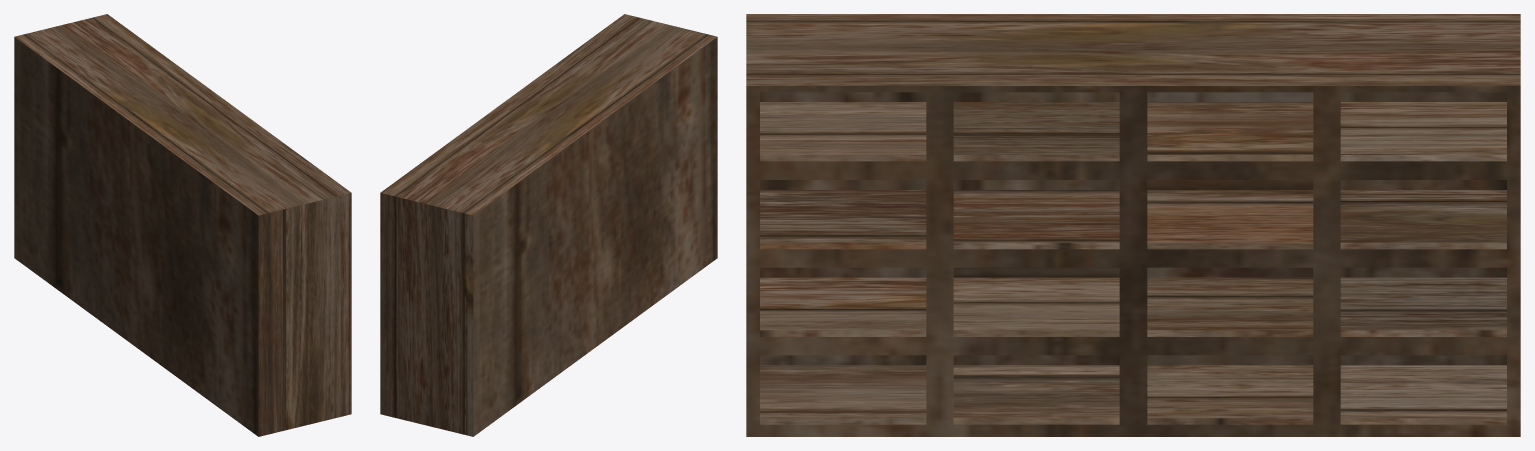
Rendered from shelf.fbx.
The picture shows the model from 3 angles, left to right: view 1: azimuth 30°, elevation 25°; view 2: azimuth 150°, elevation 25°; view 3: azimuth 270°, elevation 25°; orthographic projection. The views are drawn at different scales.
Parts seen in each view (by area): view 1: Cube.005; view 2: Cube.005; view 3: Cube.005.
Boxes of the visible parts, <box> form: Cube.005: <box>14,14,351,436</box>; Cube.005: <box>380,14,717,436</box>; Cube.005: <box>746,14,1520,436</box>.
Bounding box in the file's own units: 110 × 250 × 500.
1 material, 1 textured.
